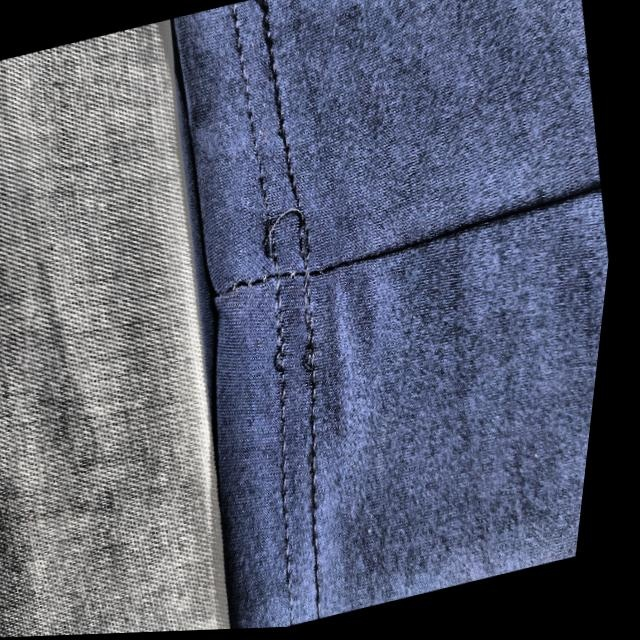Stitch: (245, 177, 364, 318), (244, 308, 380, 423)
